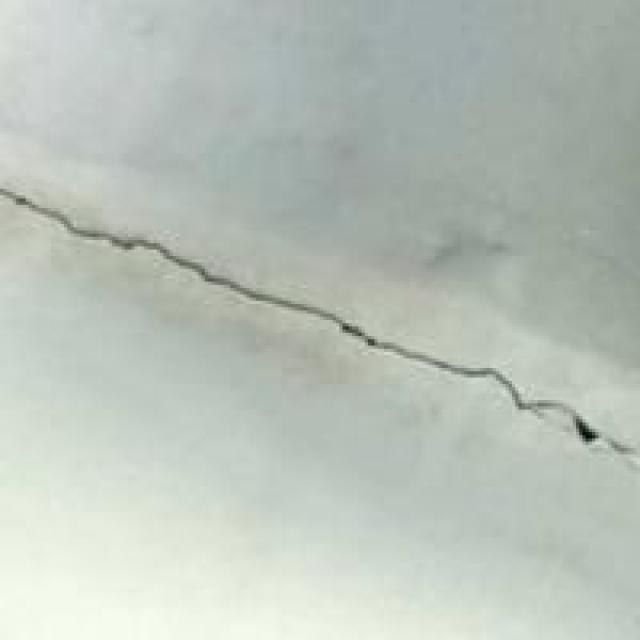crack: (3, 163, 637, 474)
